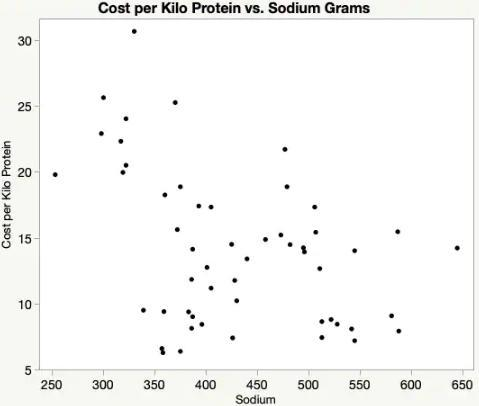axis: (41, 365, 476, 379), (35, 17, 44, 371)
point: (128, 27, 140, 37), (121, 113, 131, 124), (171, 98, 181, 108), (50, 170, 60, 180), (206, 283, 216, 293), (99, 93, 110, 102), (229, 276, 240, 285), (194, 201, 203, 211), (207, 202, 216, 212), (173, 224, 182, 234), (186, 274, 196, 283), (175, 346, 185, 355), (228, 334, 238, 343), (176, 183, 185, 192), (187, 324, 196, 333), (117, 168, 127, 176), (97, 129, 106, 137), (116, 137, 125, 145), (160, 191, 169, 199), (188, 245, 197, 253), (242, 255, 251, 263), (227, 240, 236, 248), (232, 297, 241, 305), (261, 236, 270, 244), (202, 264, 212, 271), (139, 306, 147, 314), (160, 308, 168, 316), (184, 307, 192, 315), (198, 320, 206, 328), (122, 162, 131, 169), (157, 345, 166, 352), (188, 313, 196, 320), (159, 350, 167, 357), (278, 231, 284, 239)
